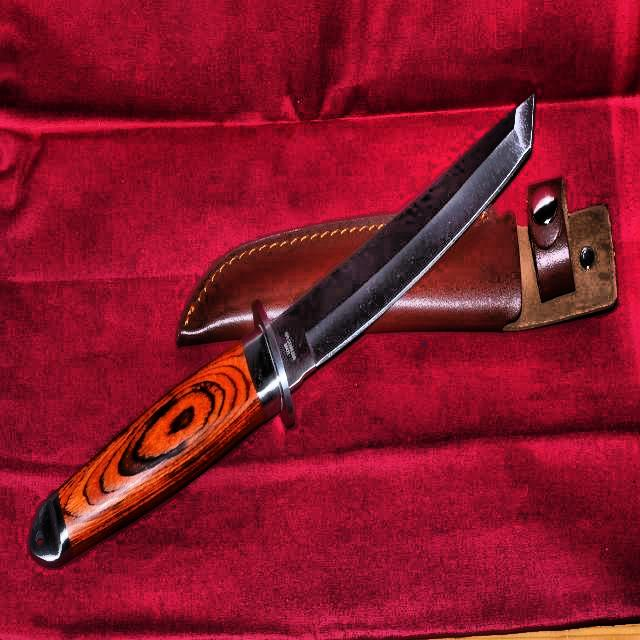knife: (27, 90, 540, 566)
